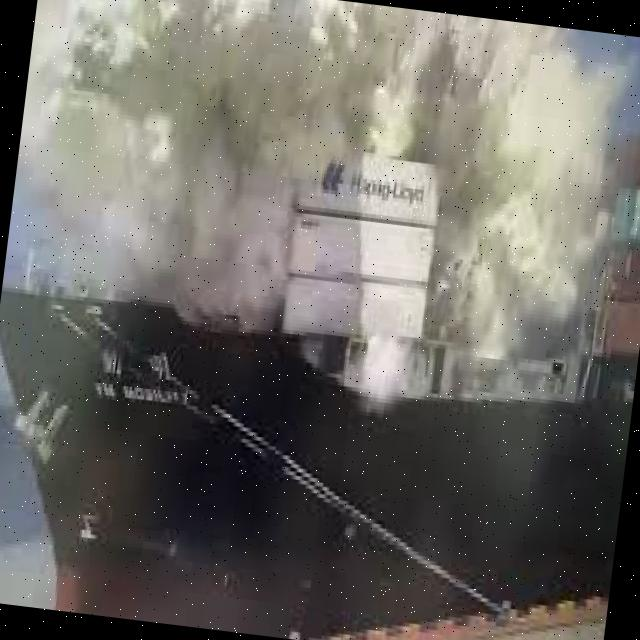explosion: (28, 0, 640, 464)
